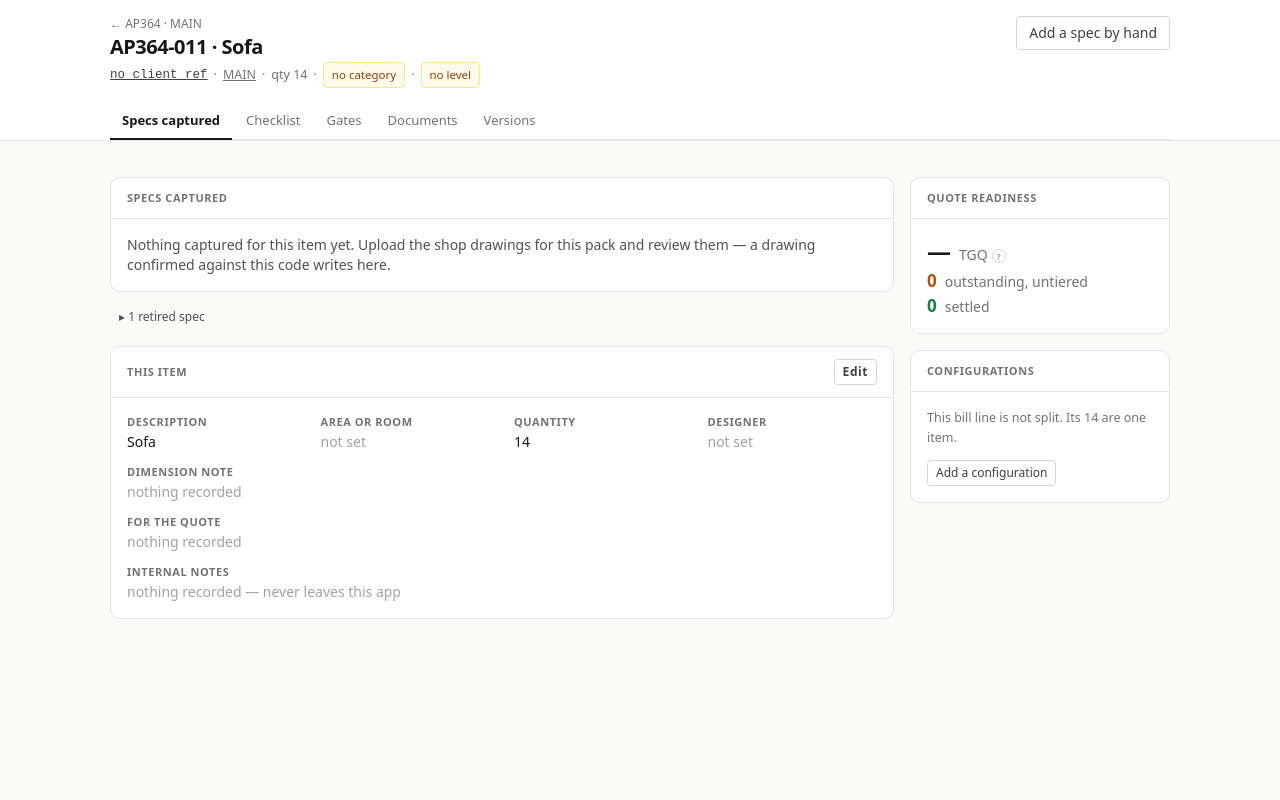
Test: correcting a spec from the record › offers neither on a retired spec
Click the button "▸ 1 retired spec" at [162, 317], box [110, 304, 214, 330]
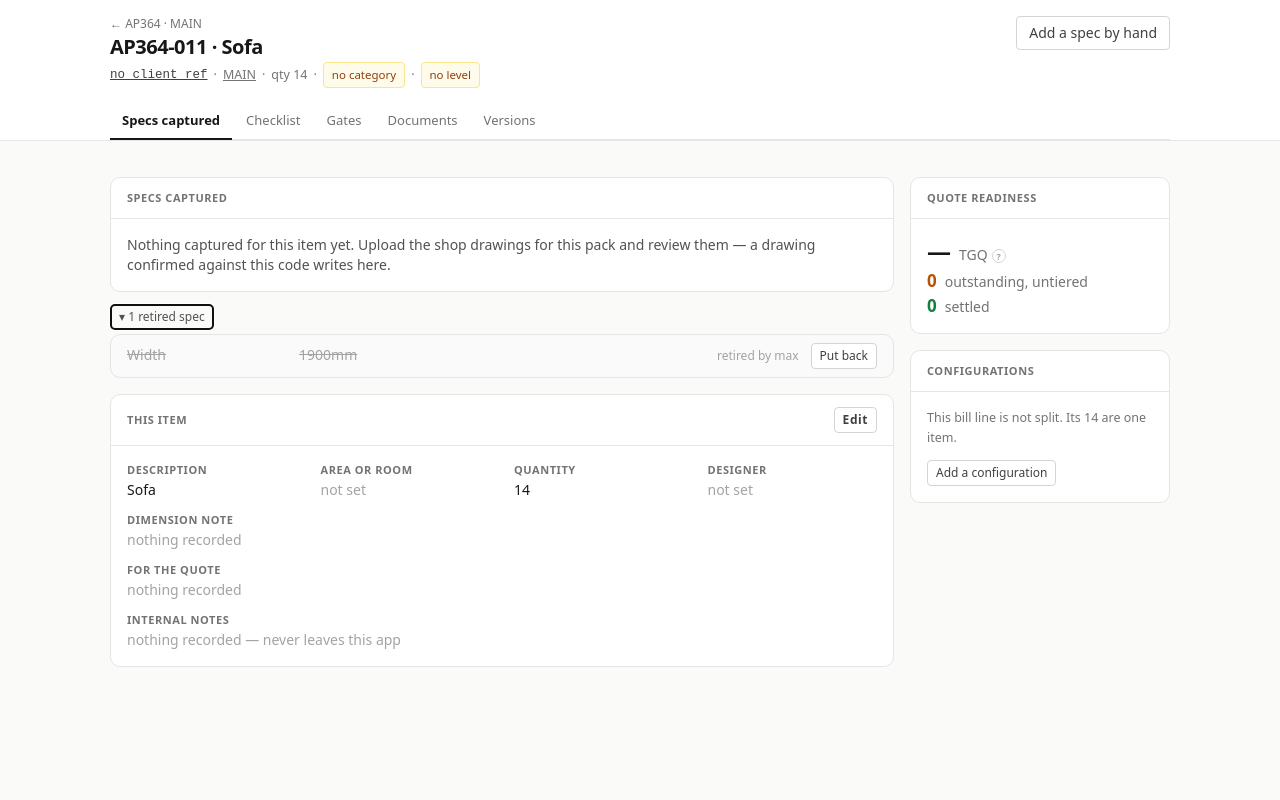
Expected: the button "Put back" is shown, [811, 343, 877, 369]
